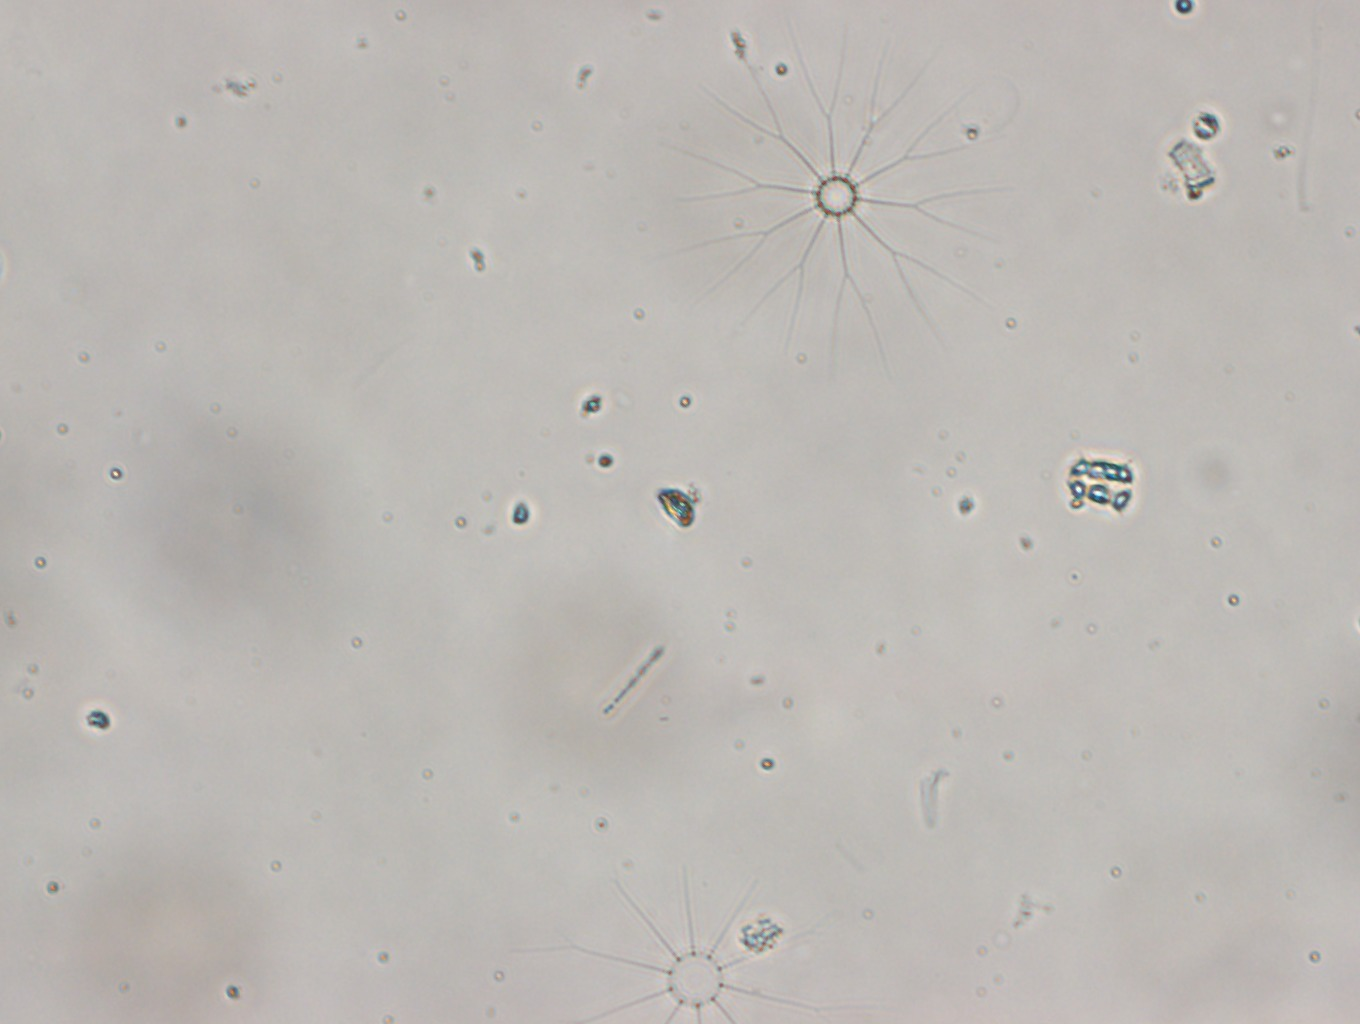bacteriastrum: (647, 31, 1032, 376)
